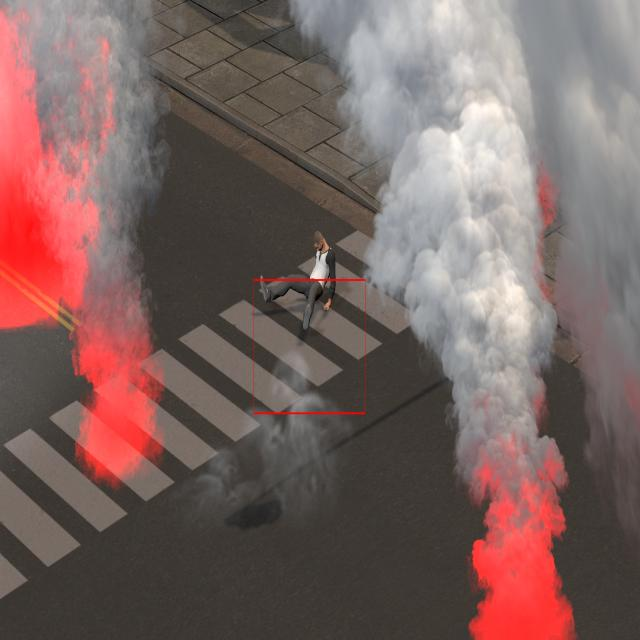Human: (256, 223, 345, 341)
